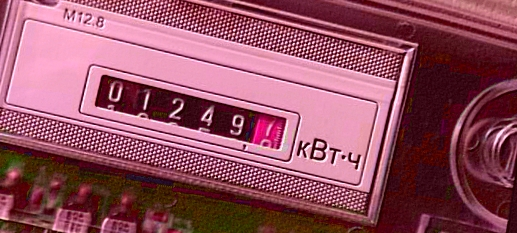0: (105, 77, 126, 105)
1: (136, 85, 154, 112)
2: (165, 95, 186, 123)
4: (198, 101, 217, 128)
7: (261, 112, 280, 140)
9: (226, 110, 246, 139)
screen: (73, 61, 306, 167)
